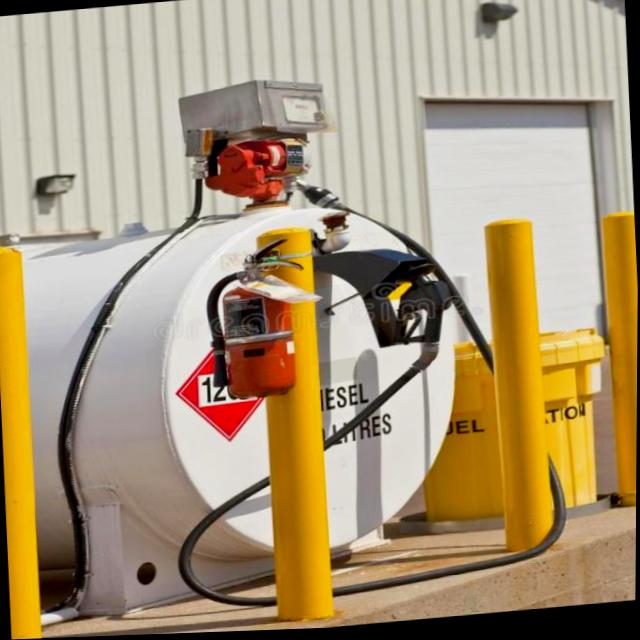FireExtinguisher: (196, 234, 317, 408)
